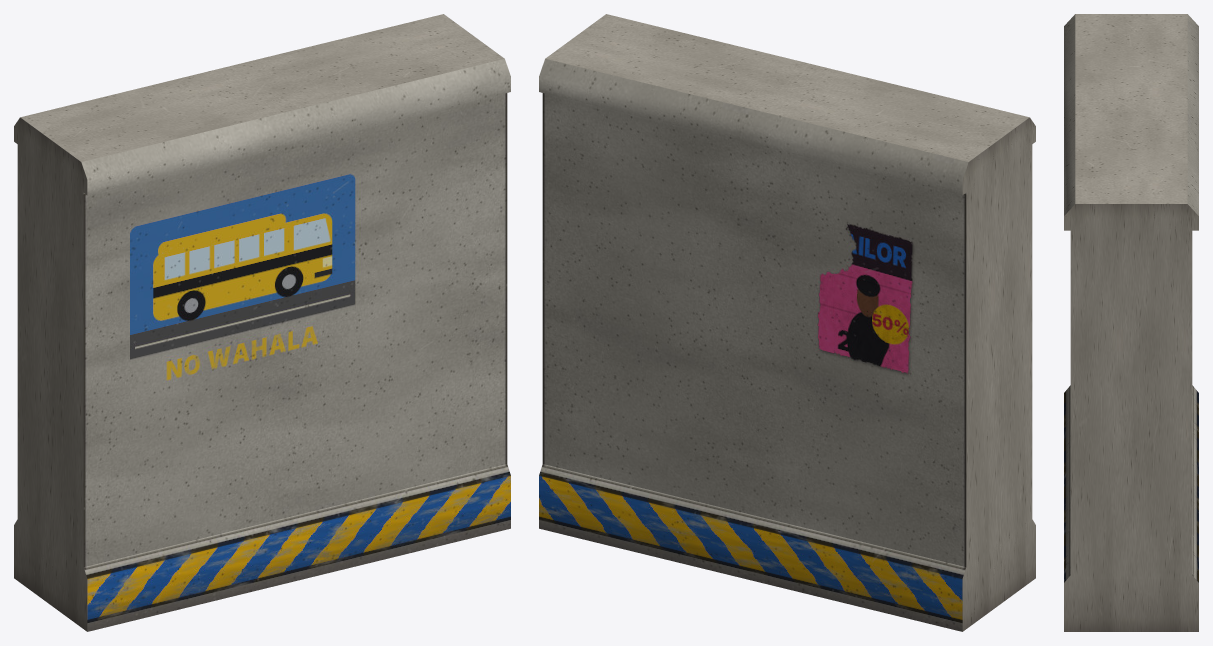
The model's file is env_wall_d.glb.
3 renders of one model, left to right at view 1: azimuth 30°, elevation 25°; view 2: azimuth 150°, elevation 25°; view 3: azimuth 270°, elevation 25°, orthographic. The views are drawn at different scales.
Parts seen in each view (by area): view 1: env_wall_d_body; view 2: env_wall_d_body; view 3: env_wall_d_body.
Part boxes in pixels (bbox=[...]): env_wall_d_body: bbox=[14, 14, 510, 631]; env_wall_d_body: bbox=[539, 14, 1035, 631]; env_wall_d_body: bbox=[1064, 14, 1198, 631].
Size of the model in its own units: 1 by 1.05 by 0.3.
1 material, 1 textured.
